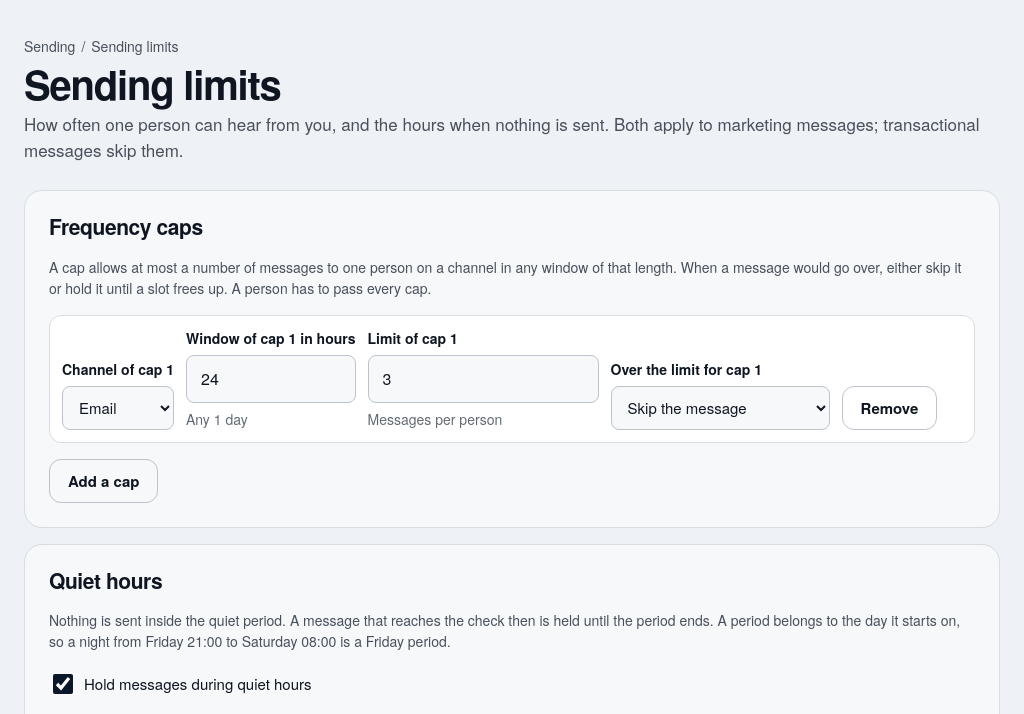
Scenario: sending limits › shows what the server refused
In the number field labelled "Limit of cap 1": (483, 379) [368, 355, 598, 403], type "0"
(page scrolled)
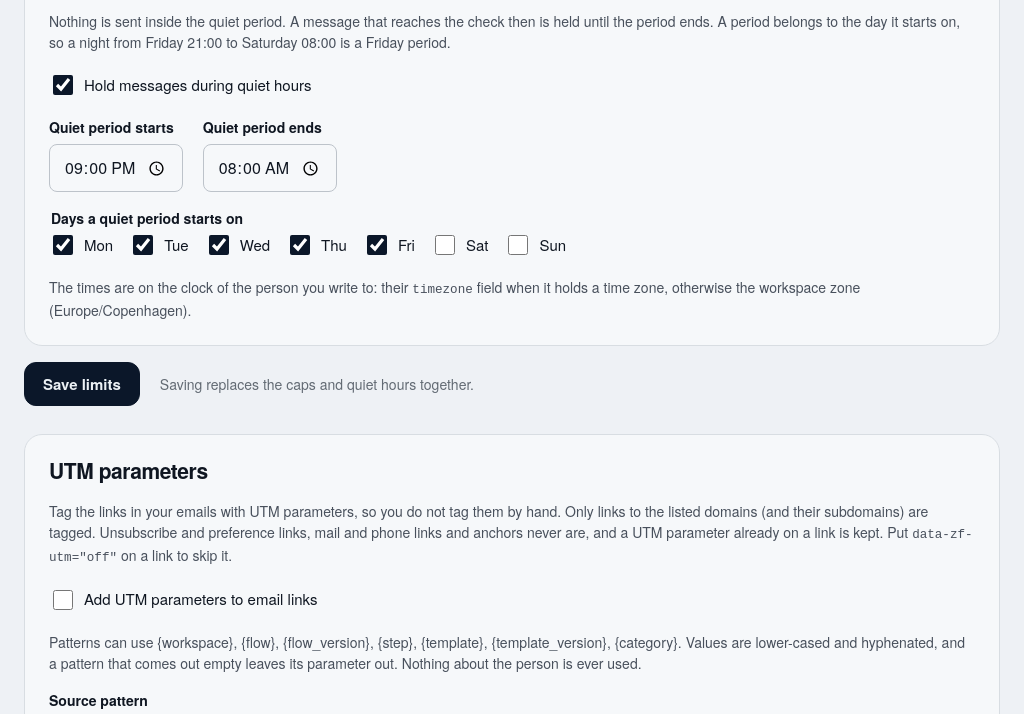
Click the button "Save limits": (82, 384) [24, 362, 140, 406]
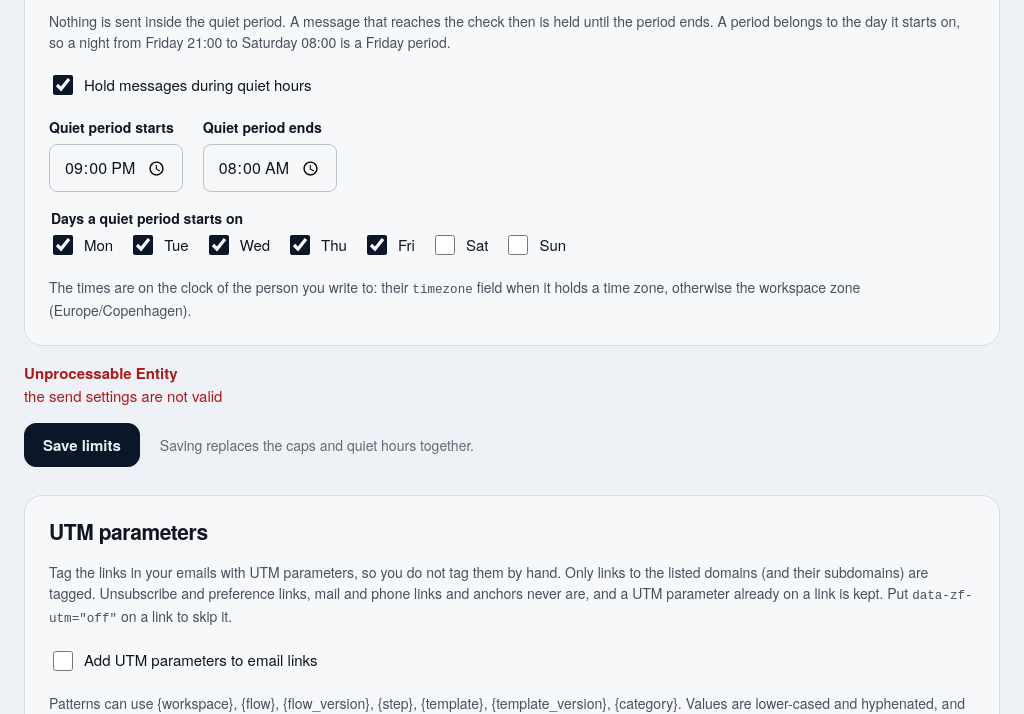
expect the text "the send settings are not valid" is shown: met, box [24, 385, 222, 406]
